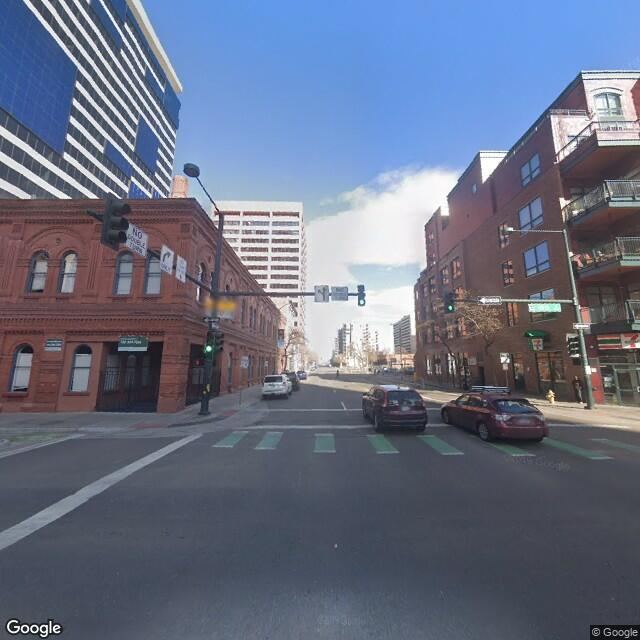fh: (543, 384, 561, 410)
